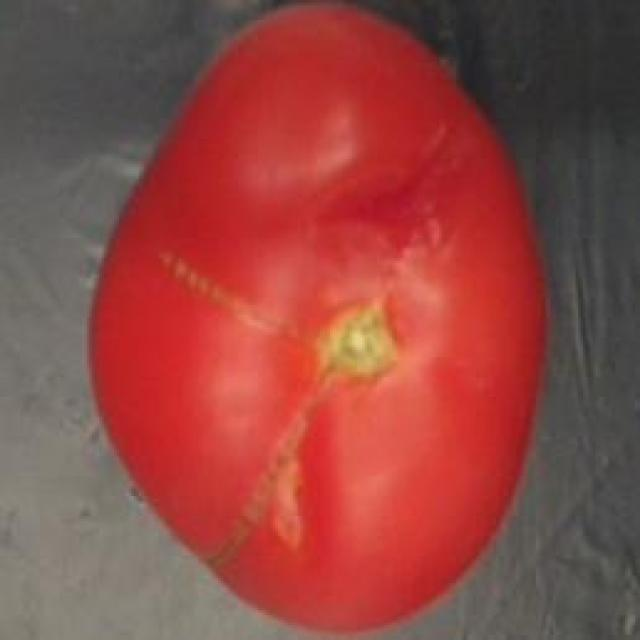overripe tomato: (90, 2, 548, 640)
